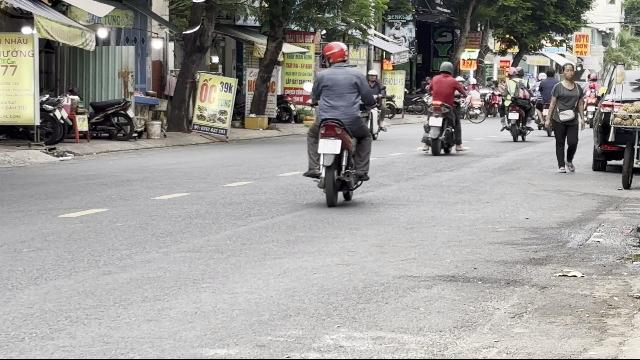helmet: (322, 42, 348, 66), (437, 61, 453, 75)
licenseplate: (317, 139, 339, 153), (430, 117, 442, 127)
motorcyclist: (299, 41, 376, 205), (420, 60, 464, 156)
